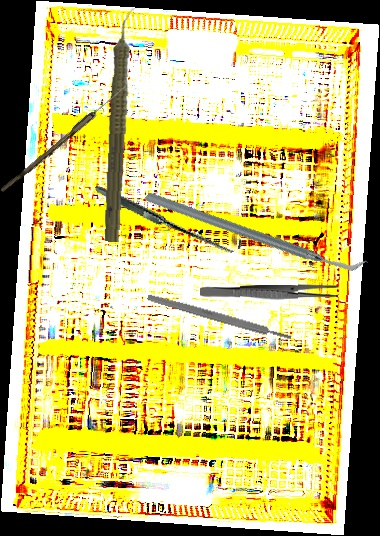Chopper: (142, 120, 369, 342)
Dressing Forceps: (199, 283, 339, 302)
Handpiece: (99, 6, 142, 243)
Hook Surgical: (94, 140, 245, 294)
Scalpel Handle: (146, 292, 293, 343)
Surgical Spoon: (0, 82, 128, 196)
